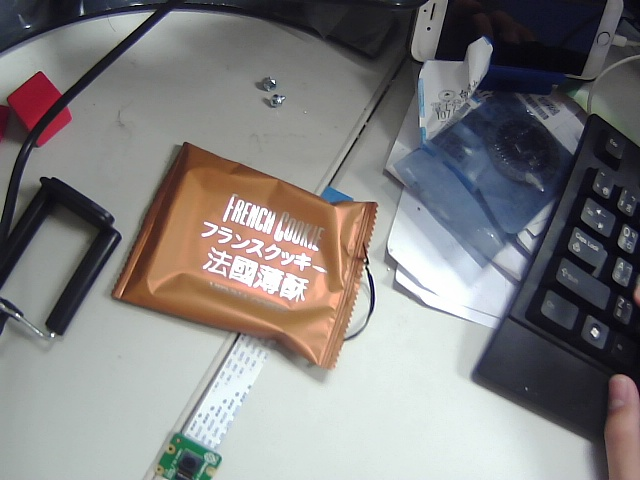frenchcookie: (103, 130, 380, 382)
